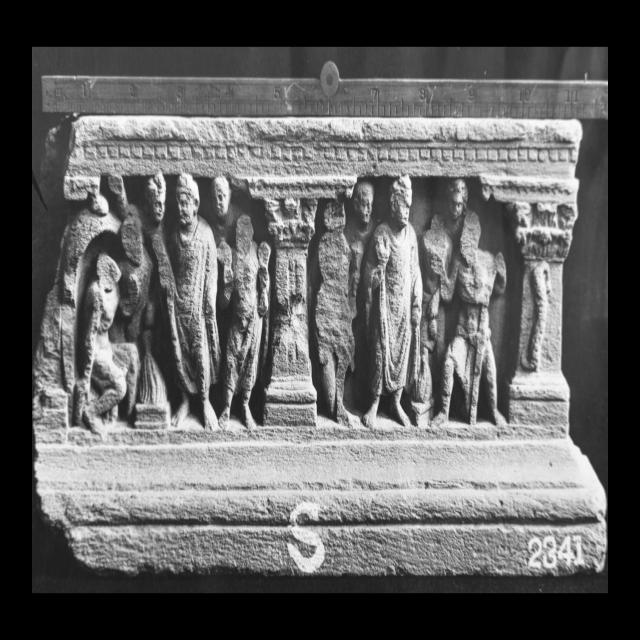buddha-standing: (364, 178, 421, 427), (172, 173, 219, 429)
